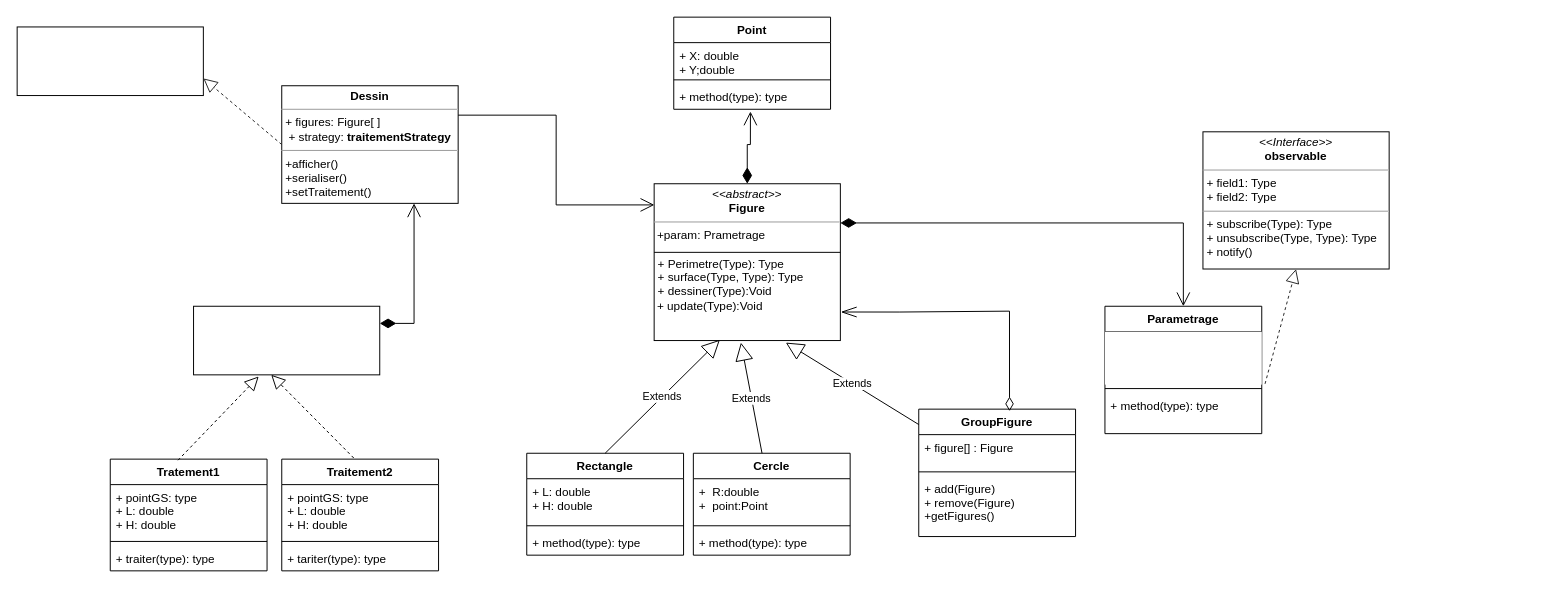
This 1557x591 diagram has some shape labels left out. The shapes that lost their labels are listed below. From the top down, each one's centre as x and y in pixels, then its label:
the point at 109,61: <<Interface>> Serializable
the point at 286,340: <<Interface>> traitementStrategy + traiter(Type): Type
the point at 1182,357: + epaisseurC: int + couleurC: int + couleurR: int
